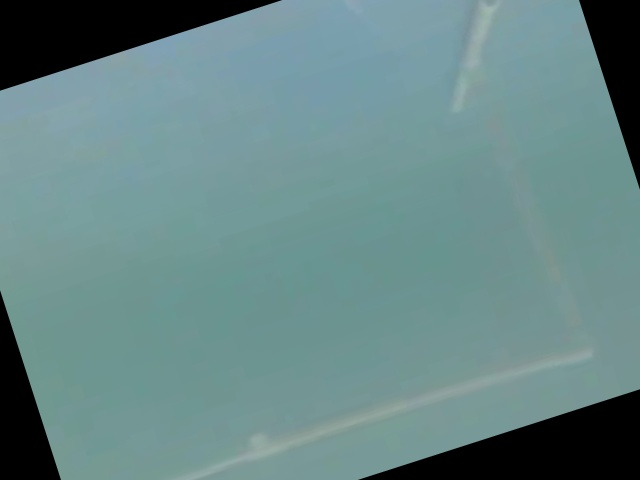gate: (3, 5, 614, 479)
